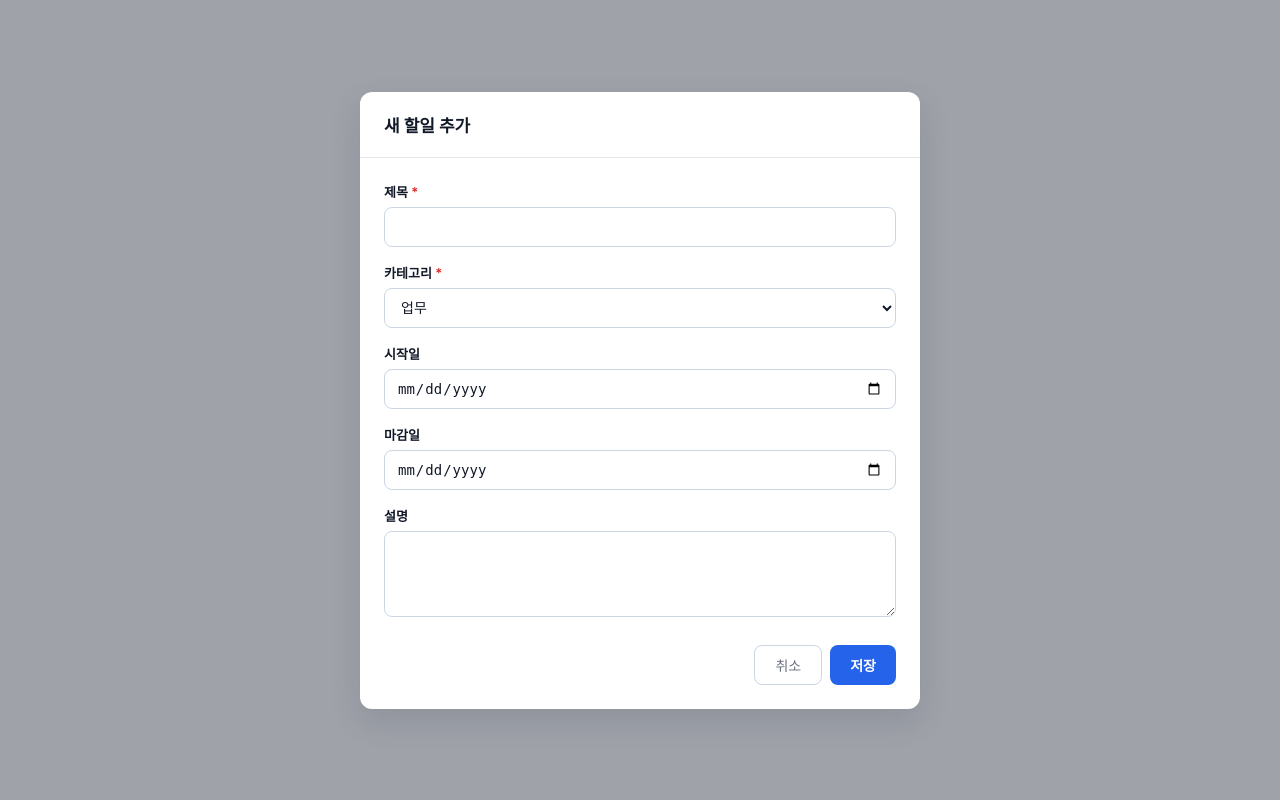
Test case: TodoModal › 빈 title로 submit 시 "제목은 필수 항목입니다." 오류가 표시된다
Click the button "저장": click(863, 664) [830, 644, 896, 684]
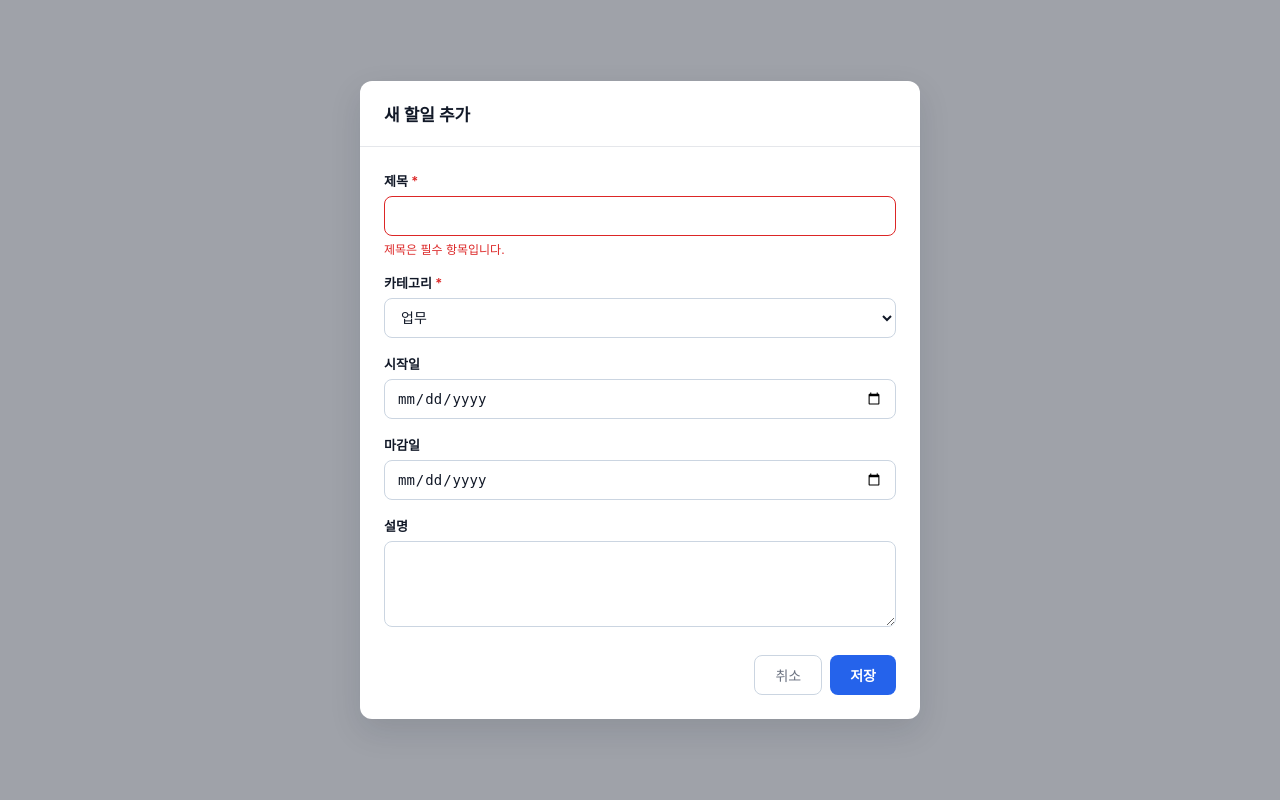
Now the text "제목은 필수 항목입니다." is shown, box [384, 242, 505, 257]
